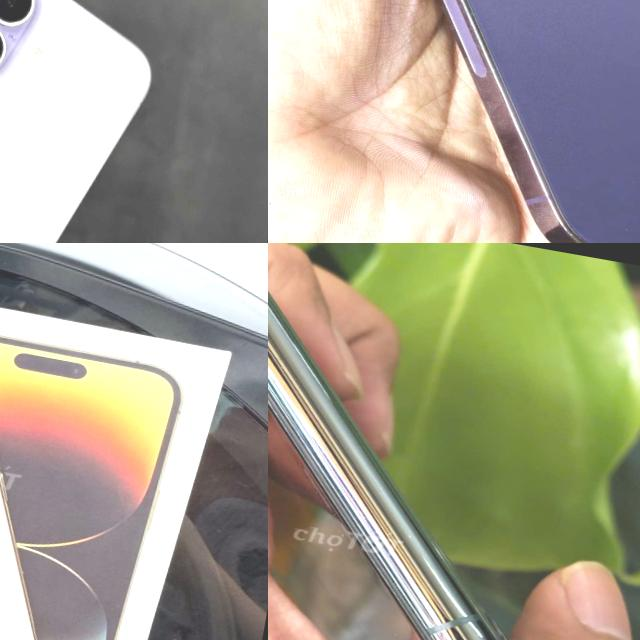gen_11: (268, 292, 507, 640)
gen_14: (268, 0, 640, 243), (0, 288, 111, 640)
gen_17: (0, 0, 173, 243)
